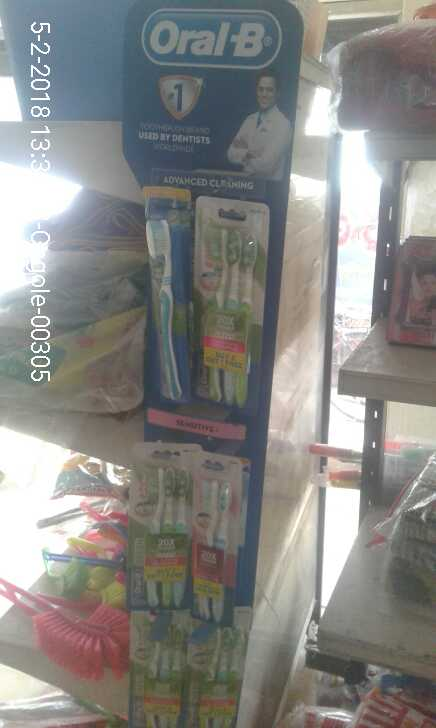oralb: (185, 205, 267, 411), (184, 457, 243, 621), (131, 451, 189, 612), (145, 217, 186, 403)
